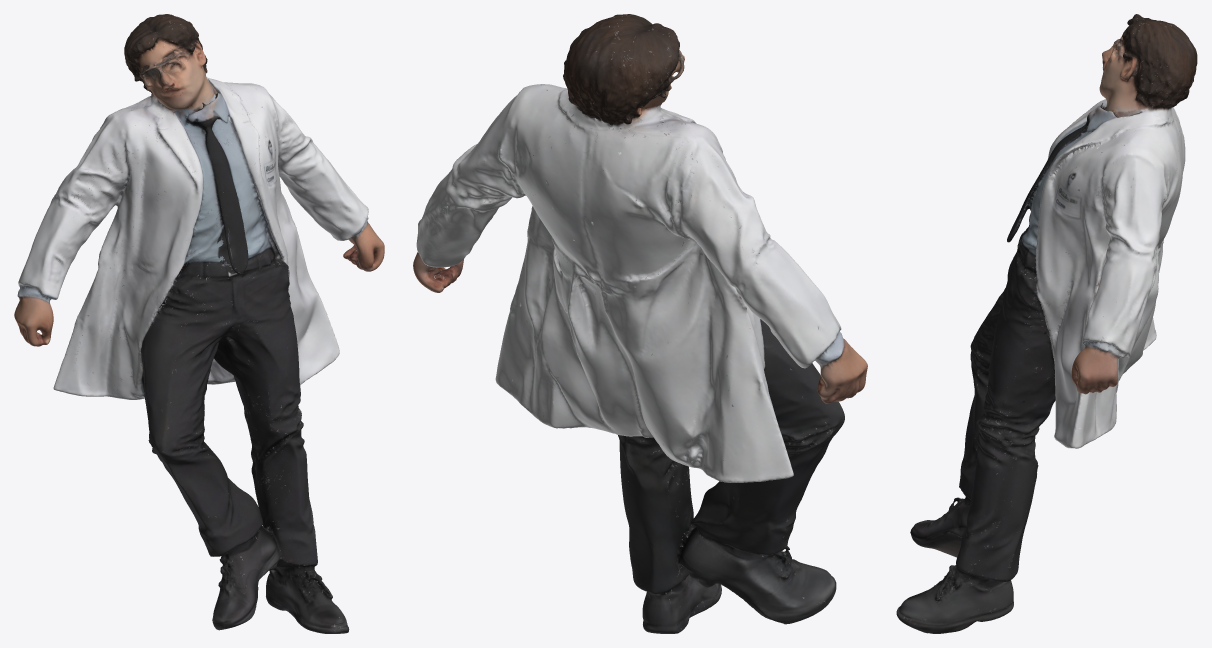
File: Meshy_AI_Levitating_Doctor_0514152750_texture.fbx
3 renders of one model, left to right at view 1: azimuth 30°, elevation 25°; view 2: azimuth 150°, elevation 25°; view 3: azimuth 270°, elevation 25°, orthographic. The views are drawn at different scales.
Parts seen in each view (by area): view 1: Mesh_0; view 2: Mesh_0; view 3: Mesh_0.
Part boxes in pixels (x1=…): Mesh_0: x1=14, y1=14, x2=384, y2=633; Mesh_0: x1=413, y1=14, x2=867, y2=633; Mesh_0: x1=896, y1=14, x2=1197, y2=633.
Bounding box in the file's own units: 134 × 200 × 94.51.
Materials: 1 (1 with a texture image).
